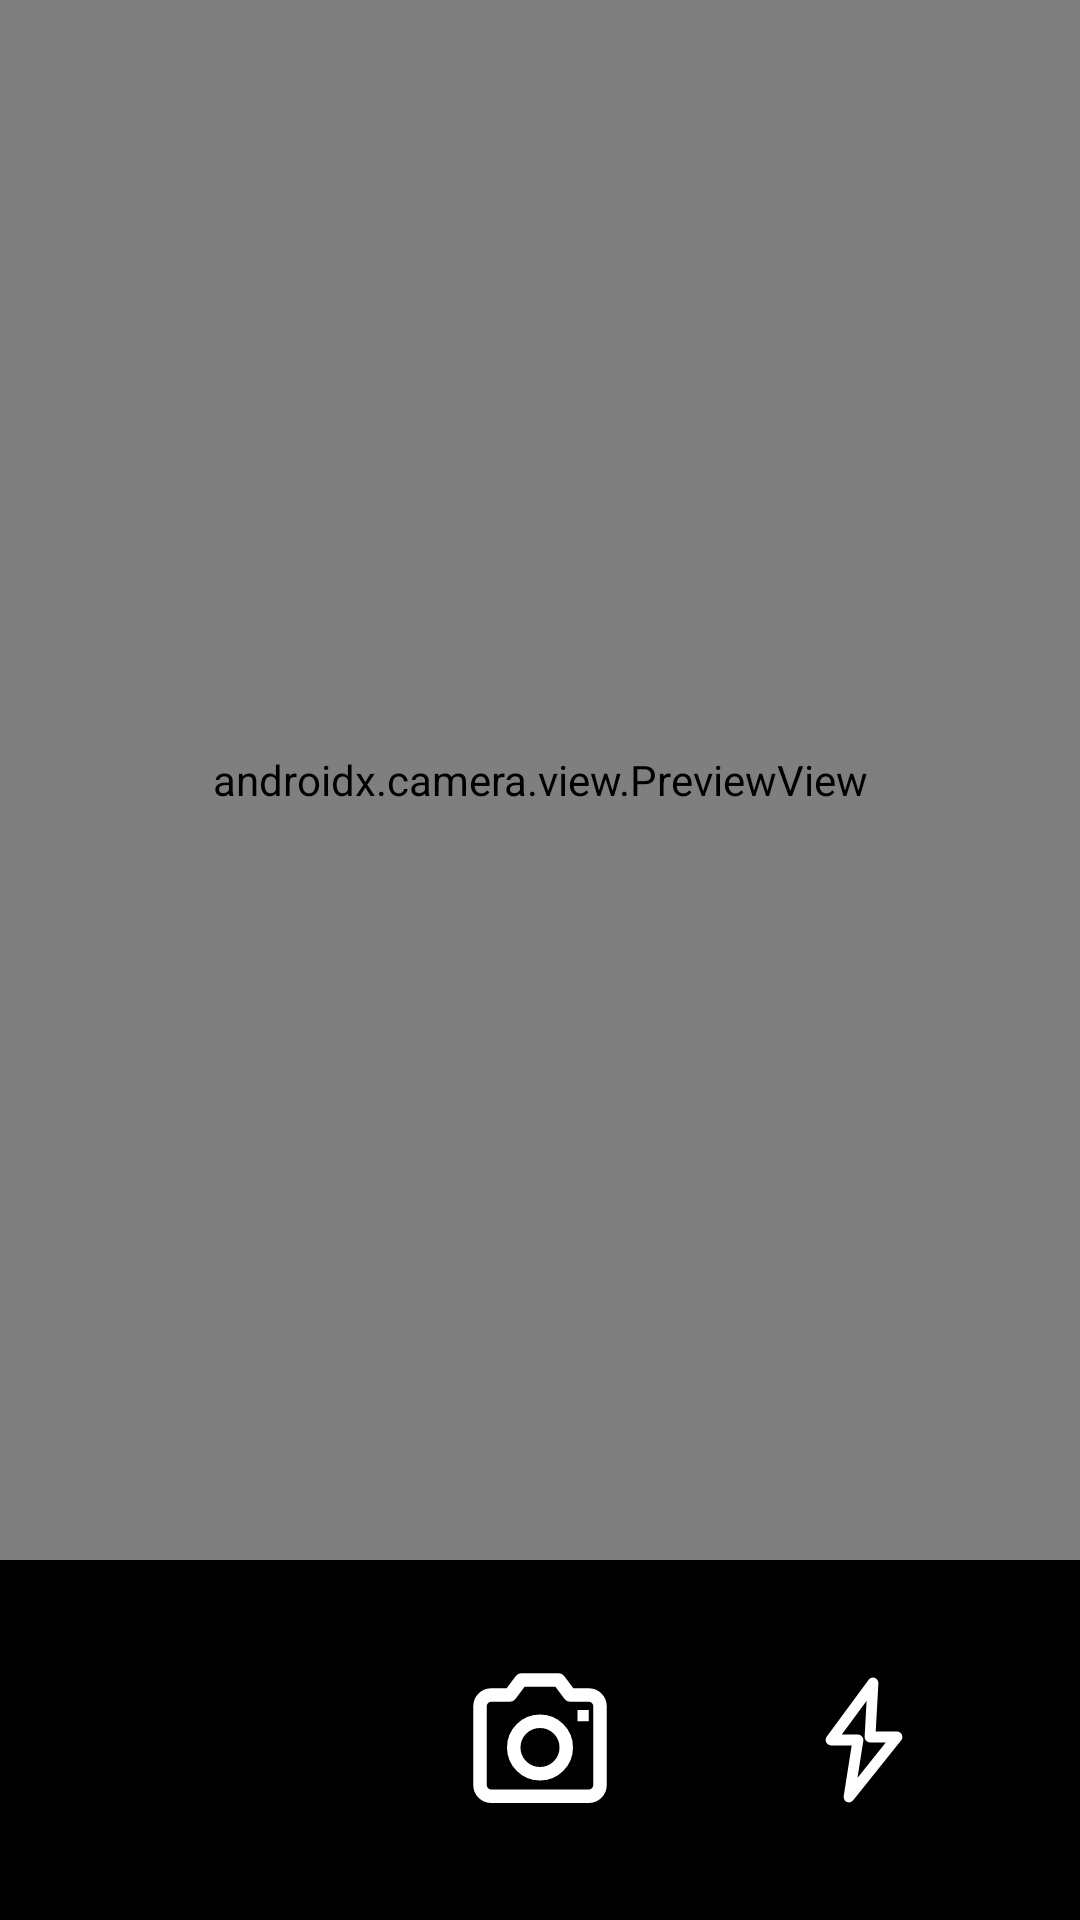

Screen size 1080px×1920px. Icon name, then its box in pixels as Rect(x1, y1, x2, y2):
التقاط صورة: Rect(473, 1673, 607, 1803)
الفلاش: Rect(825, 1677, 903, 1803)
